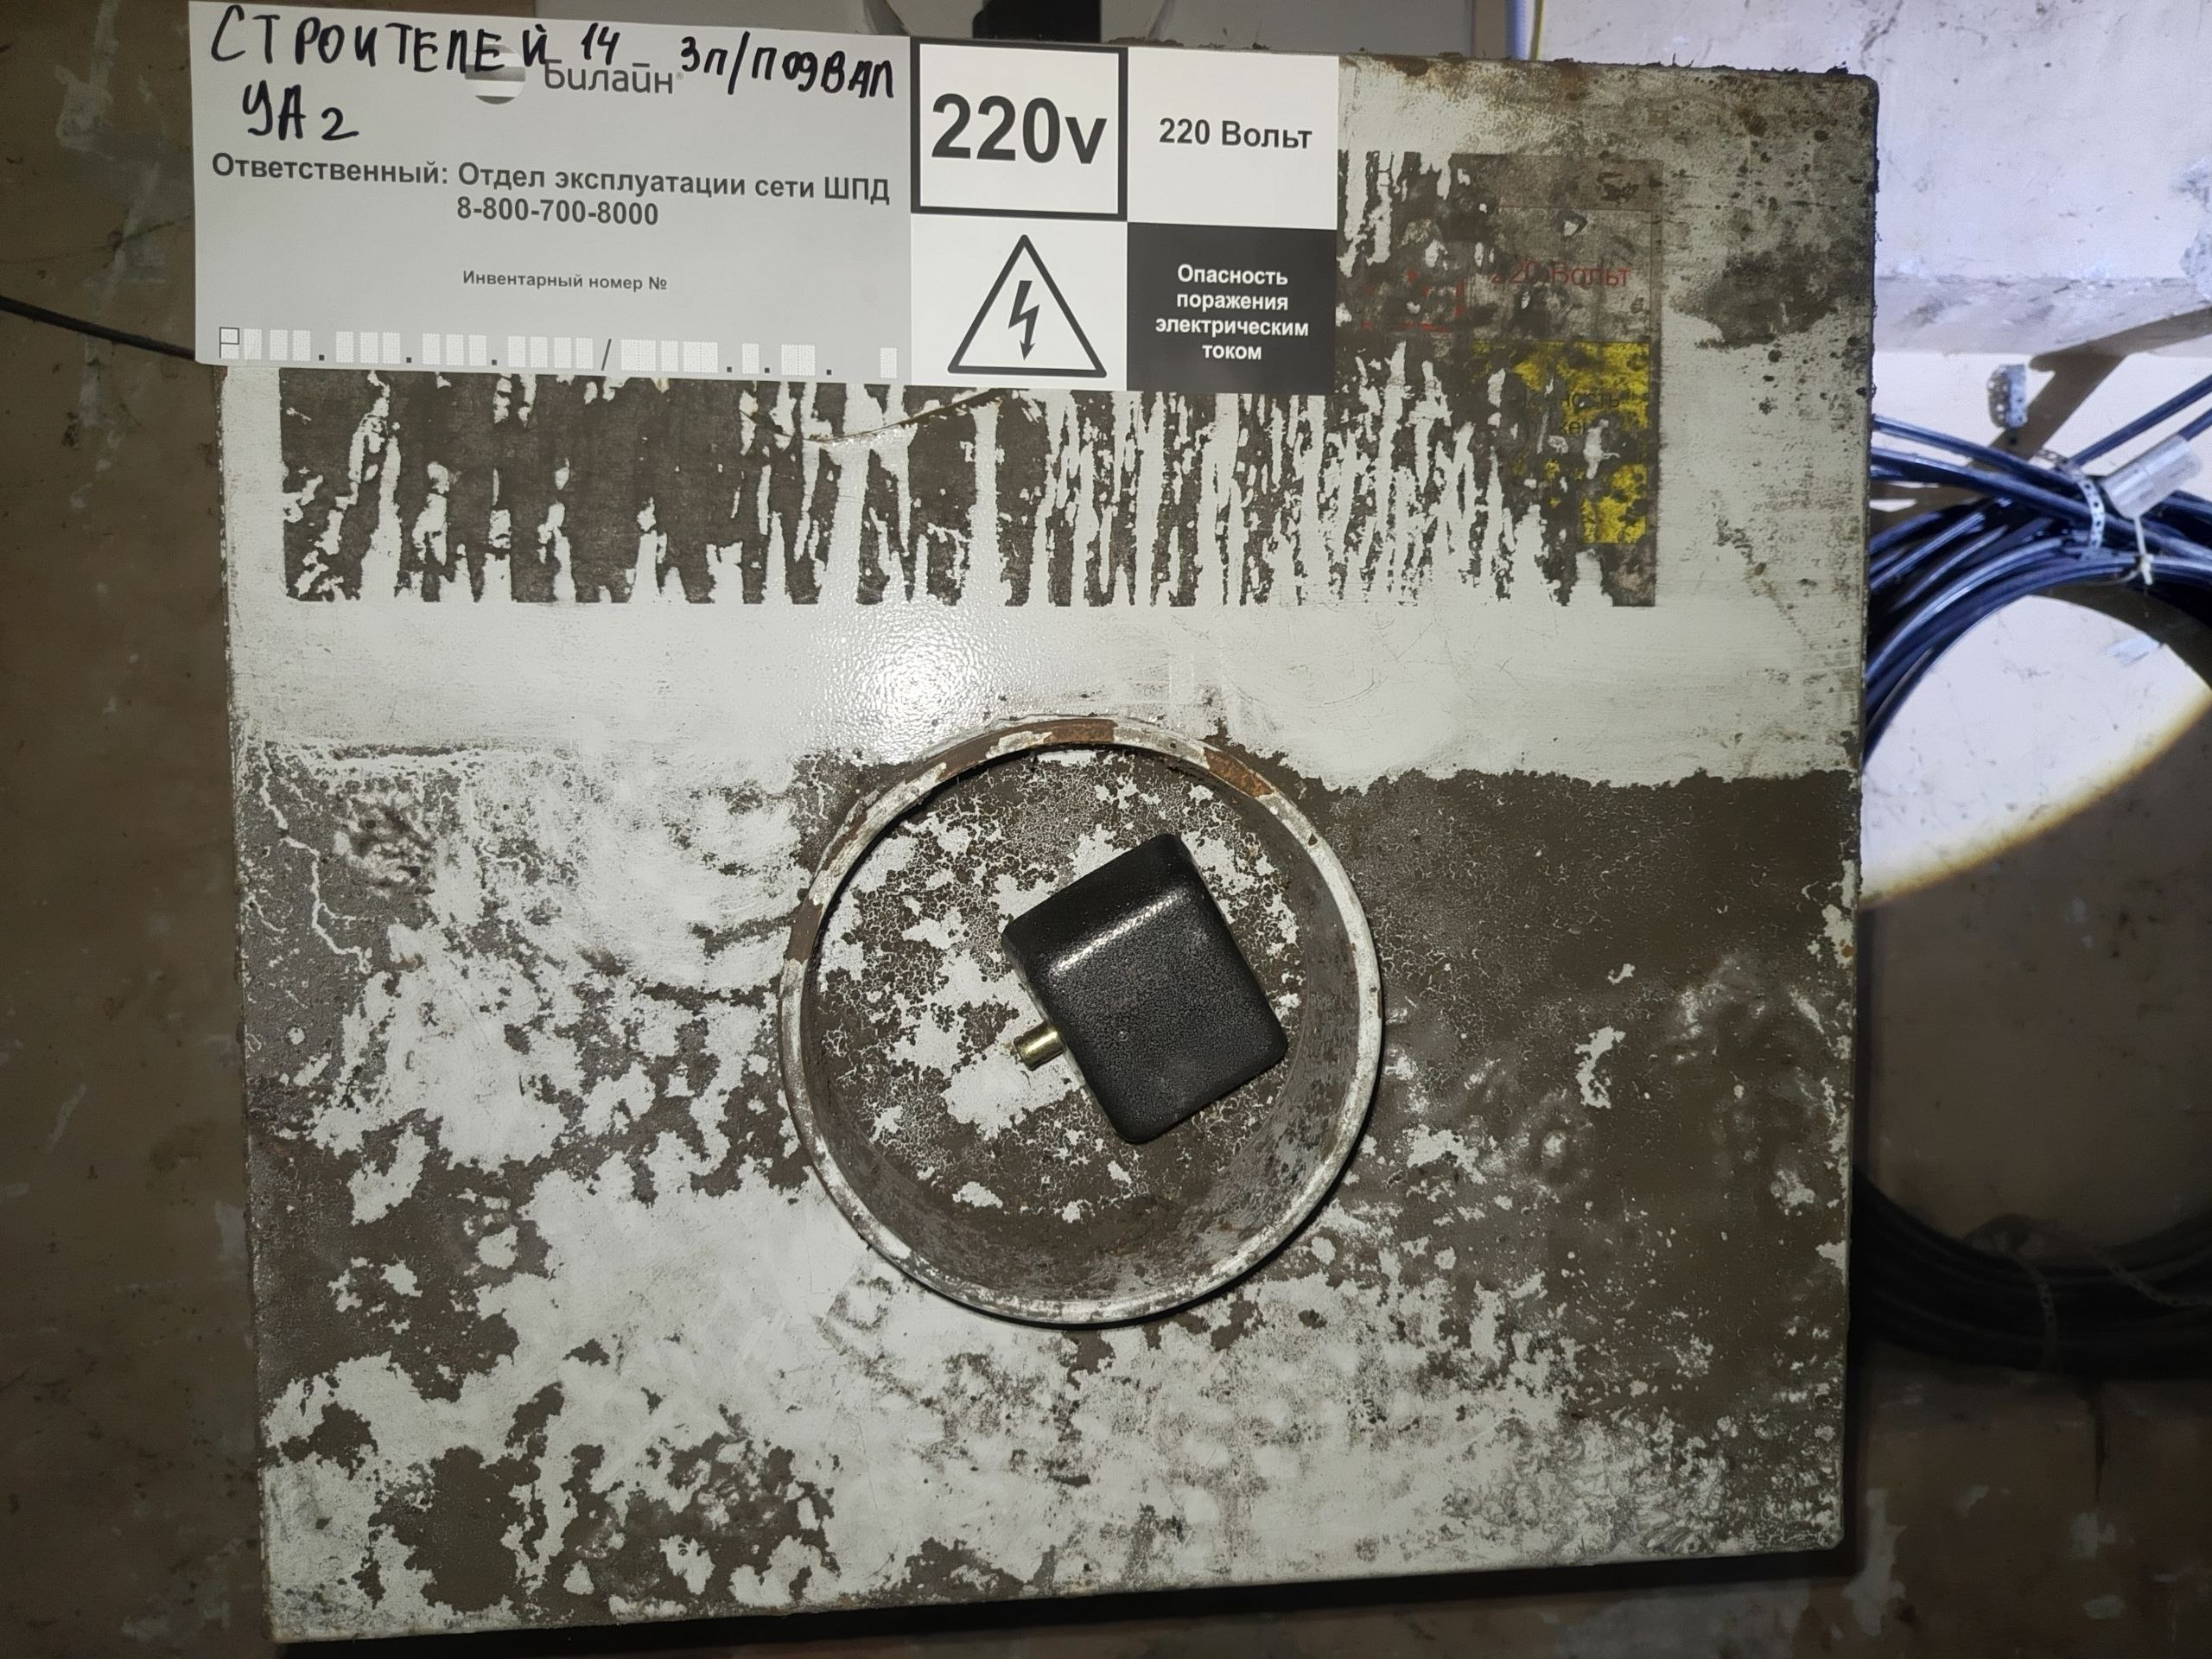shta-9: (174, 14, 1930, 1636)
